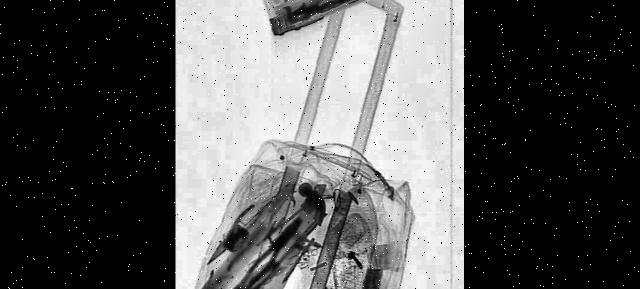Pliers: (205, 198, 258, 277)
